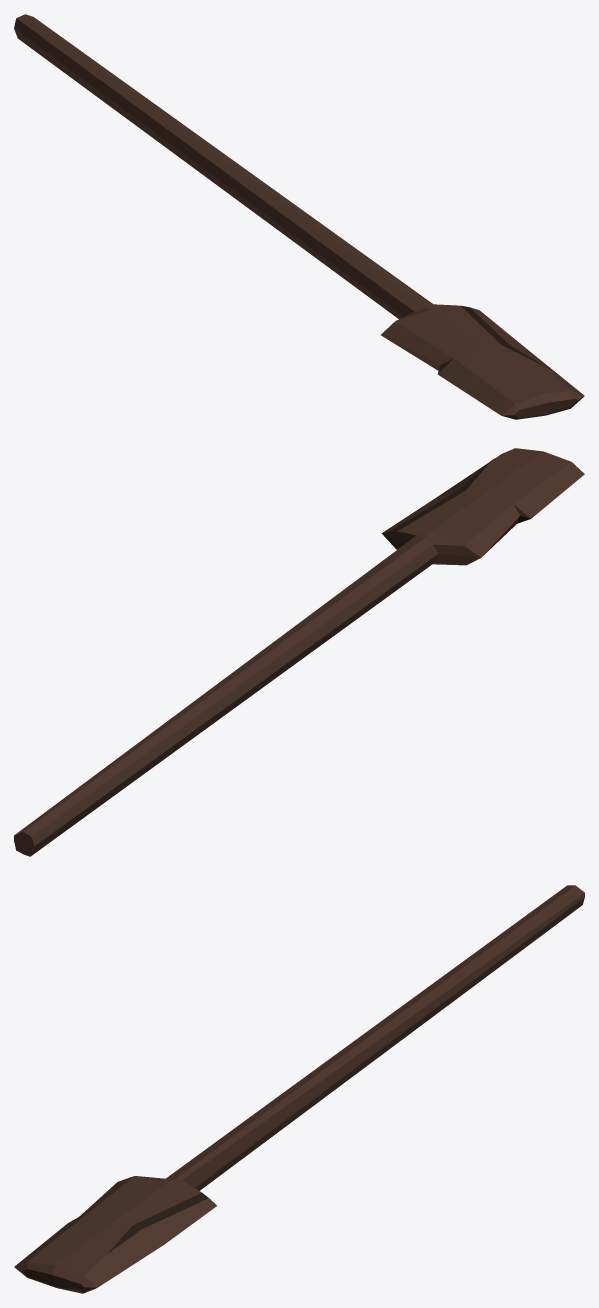
File: BoatPaddle_01.glb
The picture shows the model from 3 angles, top to bottom: view 1: azimuth 30°, elevation 25°; view 2: azimuth 150°, elevation 25°; view 3: azimuth 330°, elevation 25°; orthographic projection.
Parts seen in each view (by area): view 1: BoatPaddle_01; view 2: BoatPaddle_01; view 3: BoatPaddle_01.
Part boxes in pixels (left/top/right/bottom): BoatPaddle_01: left=14, top=14, right=584, bottom=419; BoatPaddle_01: left=14, top=448, right=584, bottom=856; BoatPaddle_01: left=14, top=885, right=584, bottom=1293.
Size of what is drawn, in the model's own units: 0.3216 by 0.0837 by 2.94.
Materials: 1 (1 with a texture image).
